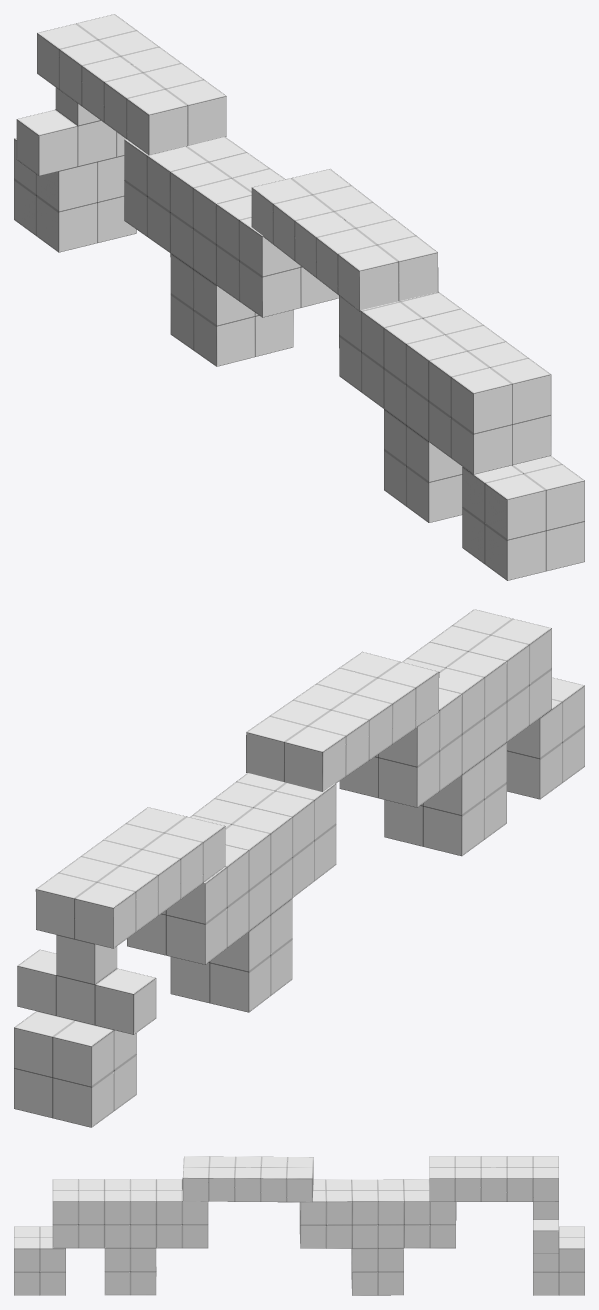
3 views of the same model, one above another, from view 1: azimuth 30°, elevation 25°; view 2: azimuth 150°, elevation 25°; view 3: azimuth 270°, elevation 25° (orthographic). The views are drawn at different scales.
Parts seen in each view (by area): view 1: GridBigTShape_0:1, GridBigTShape_0, GridPlank_0:1, GridPlank_0, Plane/BasicEnvironment/StartCube-1, Plane/BasicEnvironment/StartCube-2, GridTShape_0; view 2: GridBigTShape_0:1, GridBigTShape_0, GridPlank_0, GridPlank_0:1, Plane/BasicEnvironment/StartCube-2, GridTShape_0, Plane/BasicEnvironment/StartCube-1; view 3: GridBigTShape_0:1, GridBigTShape_0, GridPlank_0, GridPlank_0:1, Plane/BasicEnvironment/StartCube-1, Plane/BasicEnvironment/StartCube-2, GridTShape_0.
Boxes of the visible parts, left/top/right/bottom form: GridBigTShape_0:1: left=339, top=292, right=551, bottom=522; GridBigTShape_0: left=124, top=137, right=338, bottom=366; GridPlank_0:1: left=37, top=14, right=226, bottom=155; GridPlank_0: left=251, top=169, right=438, bottom=311; Plane/BasicEnvironment/StartCube-1: left=462, top=456, right=584, bottom=580; Plane/BasicEnvironment/StartCube-2: left=14, top=138, right=136, bottom=252; GridTShape_0: left=16, top=87, right=125, bottom=175; GridBigTShape_0:1: left=339, top=609, right=551, bottom=856; GridBigTShape_0: left=127, top=773, right=336, bottom=1012; GridPlank_0: left=246, top=651, right=439, bottom=791; GridPlank_0:1: left=35, top=807, right=225, bottom=948; Plane/BasicEnvironment/StartCube-2: left=14, top=1011, right=136, bottom=1127; GridTShape_0: left=17, top=935, right=156, bottom=1034; Plane/BasicEnvironment/StartCube-1: left=507, top=677, right=584, bottom=799; GridBigTShape_0:1: left=52, top=1179, right=208, bottom=1295; GridBigTShape_0: left=299, top=1179, right=456, bottom=1295; GridPlank_0: left=182, top=1156, right=313, bottom=1202; GridPlank_0:1: left=429, top=1156, right=558, bottom=1201; Plane/BasicEnvironment/StartCube-1: left=14, top=1226, right=65, bottom=1295; Plane/BasicEnvironment/StartCube-2: left=533, top=1226, right=584, bottom=1295; GridTShape_0: left=533, top=1202, right=558, bottom=1253.
Bounding box in the file's own units: 0.3 × 0.501 × 2.2.
